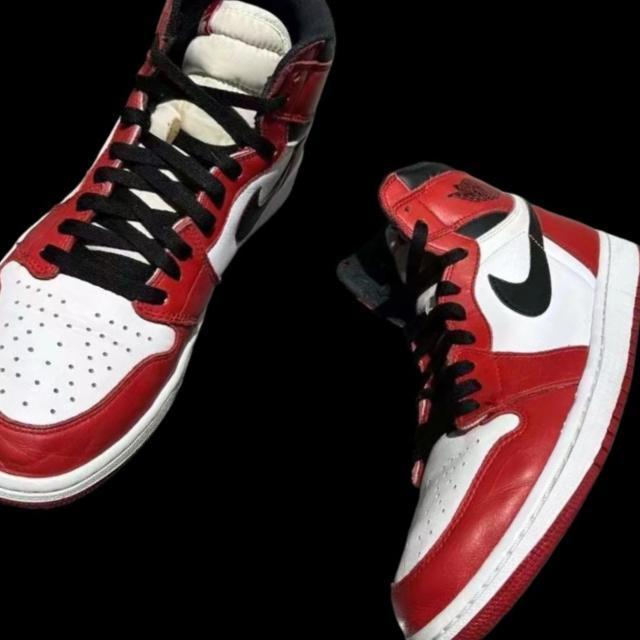nike original jordan 1: (0, 0, 422, 578), (182, 108, 640, 640)
